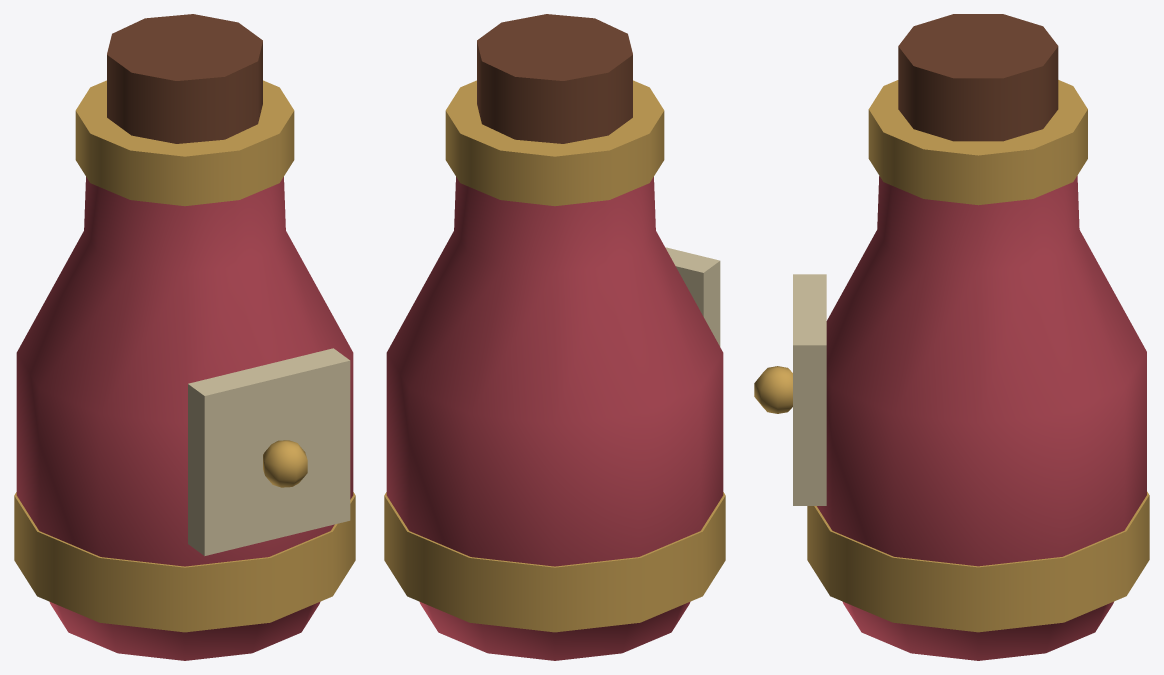
Rendered from healing_potion.fbx.
3 renders of one model, left to right at view 1: azimuth 30°, elevation 25°; view 2: azimuth 150°, elevation 25°; view 3: azimuth 270°, elevation 25°, orthographic.
Parts seen in each view (by area): view 1: healing_potion; view 2: healing_potion; view 3: healing_potion.
Part boxes in pixels (x1=…): healing_potion: x1=14, y1=14, x2=355, y2=660; healing_potion: x1=384, y1=14, x2=725, y2=660; healing_potion: x1=754, y1=14, x2=1149, y2=660.
Bounding box in the file's own units: 0.406 × 0.73 × 0.4686.
